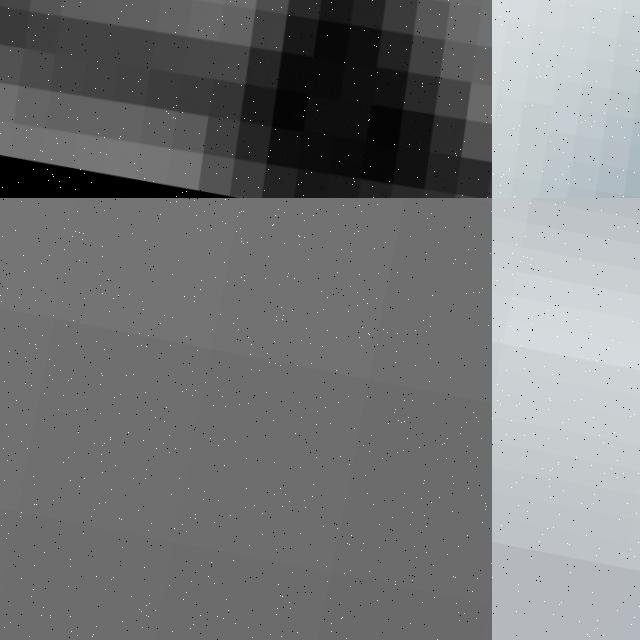0: (0, 0, 492, 198)
drone: (492, 0, 640, 198)
